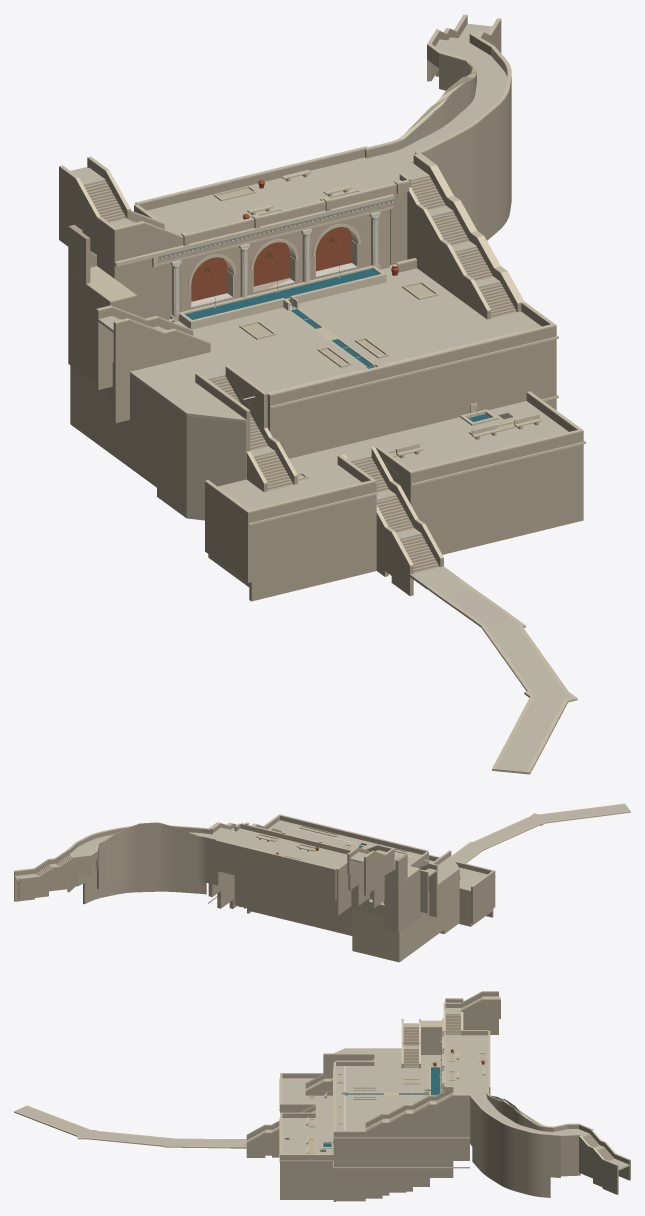
The model's file is rome_clivus_palatinus_b.glb.
The picture shows the model from 3 angles, top to bottom: view 1: azimuth 30°, elevation 25°; view 2: azimuth 150°, elevation 25°; view 3: azimuth 270°, elevation 25°; orthographic projection. The views are drawn at different scales.
Parts seen in each view (by area): view 1: B_export_structure_ash, B_export_structure_paving, B_export_structure_travertine, B_export_structure_stone, B_export_structure_panelred, B_export_water_water, B_export_structure_marble, B_export_structure_gravel; view 2: B_export_structure_ash, B_export_structure_paving, B_export_structure_stone, B_export_structure_travertine; view 3: B_export_structure_ash, B_export_structure_paving, B_export_structure_travertine, B_export_structure_stone, B_export_structure_gravel, B_export_water_water.
Boxes of the visible parts, x1,y1,x2,y2 form: B_export_structure_ash: (59,16,583,601); B_export_structure_paving: (71,23,571,773); B_export_structure_travertine: (59,14,585,774); B_export_structure_stone: (70,174,538,586); B_export_structure_panelred: (191,227,352,301); B_export_water_water: (185,249,490,421); B_export_structure_marble: (170,212,518,399); B_export_structure_gravel: (169,188,514,478); B_export_structure_ash: (14,816,495,935); B_export_structure_paving: (14,804,629,903); B_export_structure_stone: (35,824,492,962); B_export_structure_travertine: (14,803,630,905); B_export_structure_ash: (246,992,630,1201); B_export_structure_paving: (15,996,629,1170); B_export_structure_travertine: (14,991,630,1168); B_export_structure_stone: (246,997,614,1160); B_export_structure_gravel: (309,1053,485,1153); B_export_water_water: (323,1067,441,1146).
Size of the model in its own units: 67.68 by 28.99 by 120.
